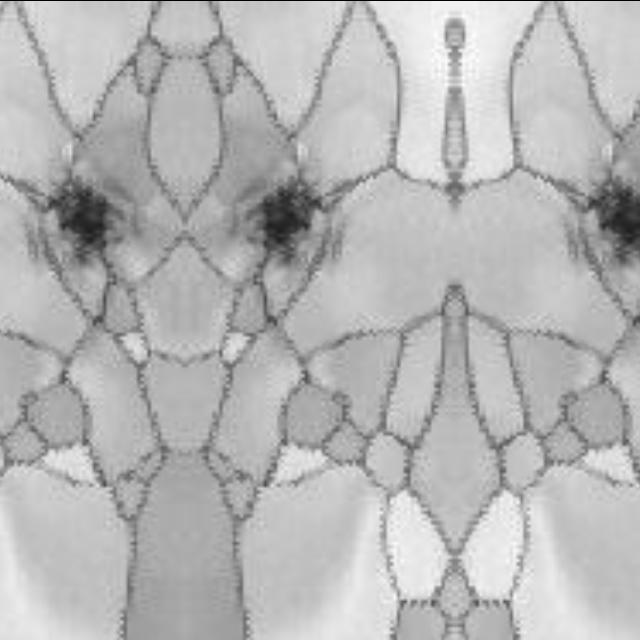good_void: (229, 179, 325, 269), (43, 179, 139, 269), (584, 179, 640, 269)
